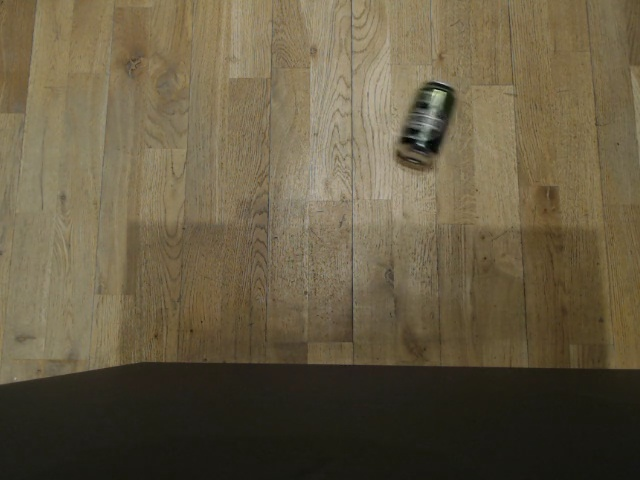beer: (394, 79, 456, 169)
